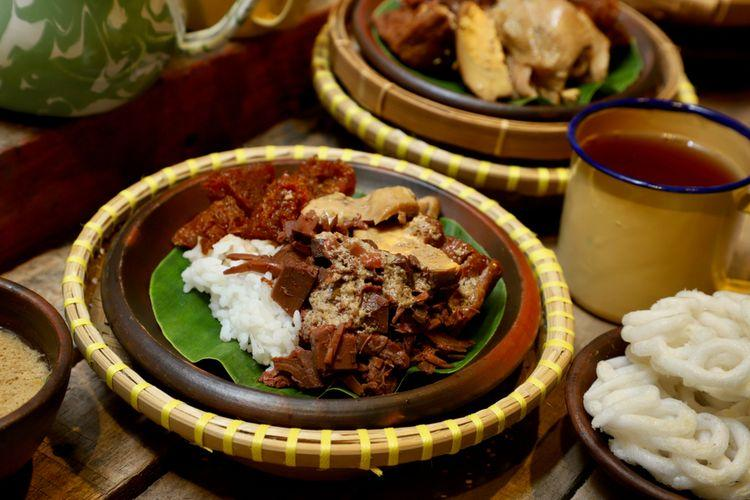gudeg: (171, 159, 502, 391)
